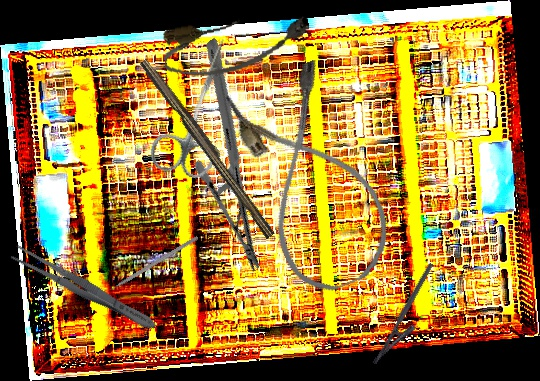Cannula: (220, 56, 405, 303), (159, 6, 315, 84)
Chopper: (100, 230, 199, 296)
Dressing Forceps: (8, 242, 161, 336)
Iris Scissors: (145, 28, 252, 185)
Needle Holder: (120, 37, 347, 273), (371, 262, 448, 373)
Scalpel Handle: (136, 55, 281, 240)
